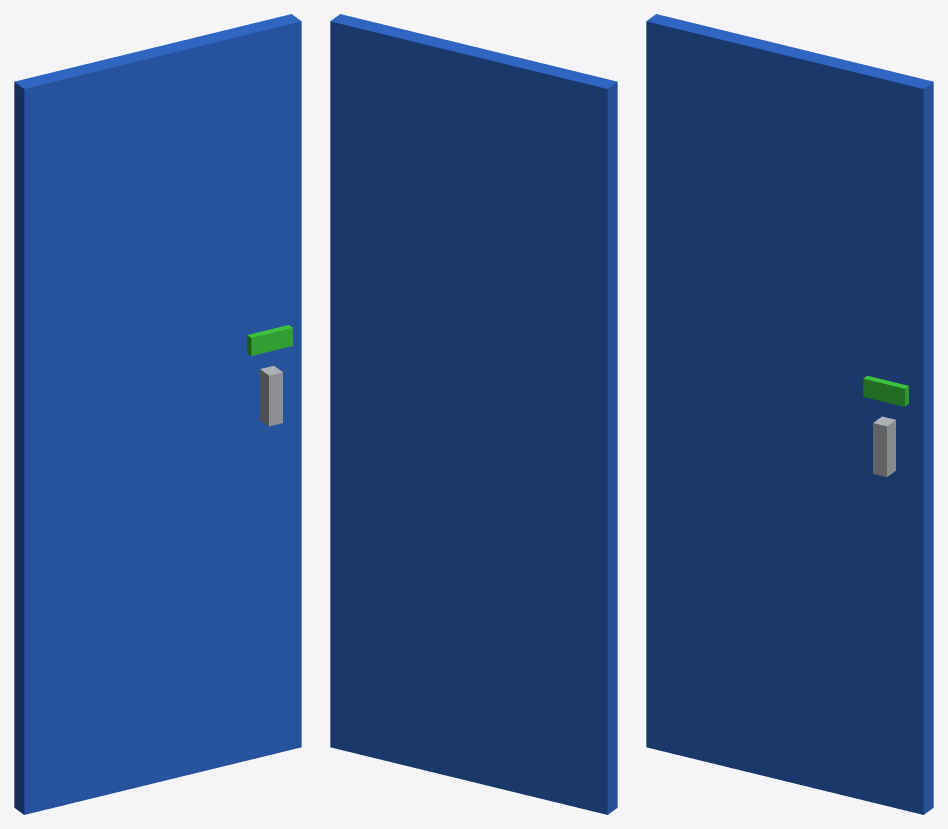
Rendered from chemical_toilet_door.glb.
3 views of the same model, side by side, from view 1: azimuth 30°, elevation 25°; view 2: azimuth 150°, elevation 25°; view 3: azimuth 330°, elevation 25° (orthographic).
Parts seen in each view (by area): view 1: door_toilet_blue, door_door_handle, sign_sign_free; view 2: door_toilet_blue; view 3: door_toilet_blue, door_door_handle, sign_sign_free.
Boxes of the visible parts, x1,y1,x2,y2 form: door_toilet_blue: (14, 14, 301, 814); door_door_handle: (260, 365, 282, 426); sign_sign_free: (247, 325, 292, 355); door_toilet_blue: (330, 14, 617, 814); door_toilet_blue: (646, 14, 933, 814); door_door_handle: (873, 416, 895, 476); sign_sign_free: (863, 375, 908, 406).
Size of the model in its own units: 0.8 by 2 by 0.095.
